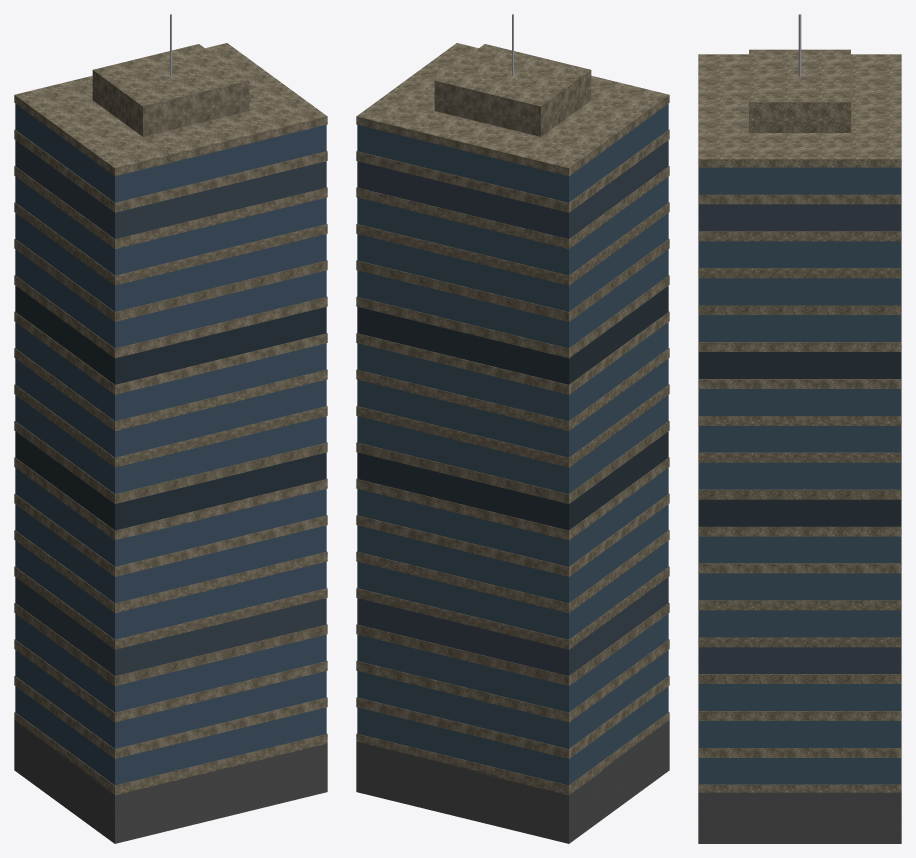
Rendered from tower-a.glb.
3 views of the same model, side by side, from view 1: azimuth 30°, elevation 25°; view 2: azimuth 150°, elevation 25°; view 3: azimuth 270°, elevation 25° (orthographic).
Visible parts, largest first — view 1: TowerA; view 2: TowerA; view 3: TowerA.
Boxes of the visible parts, x1,y1,x2,y2 form: TowerA: (14,14,327,843); TowerA: (356,14,669,843); TowerA: (698,14,901,843).
Size of the model in its own units: 22 by 75.8 by 18.
Materials: 7 (2 with a texture image).
